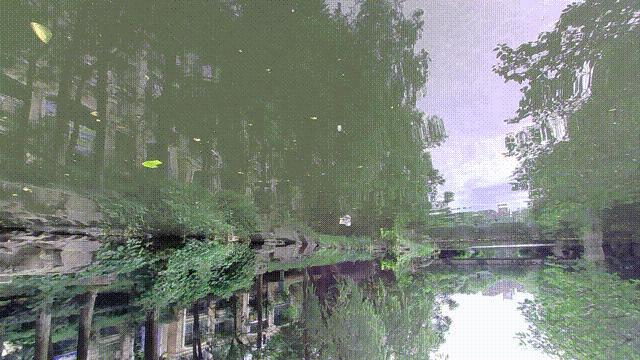Plastic: (139, 157, 163, 174), (337, 213, 354, 227), (225, 234, 243, 243)
